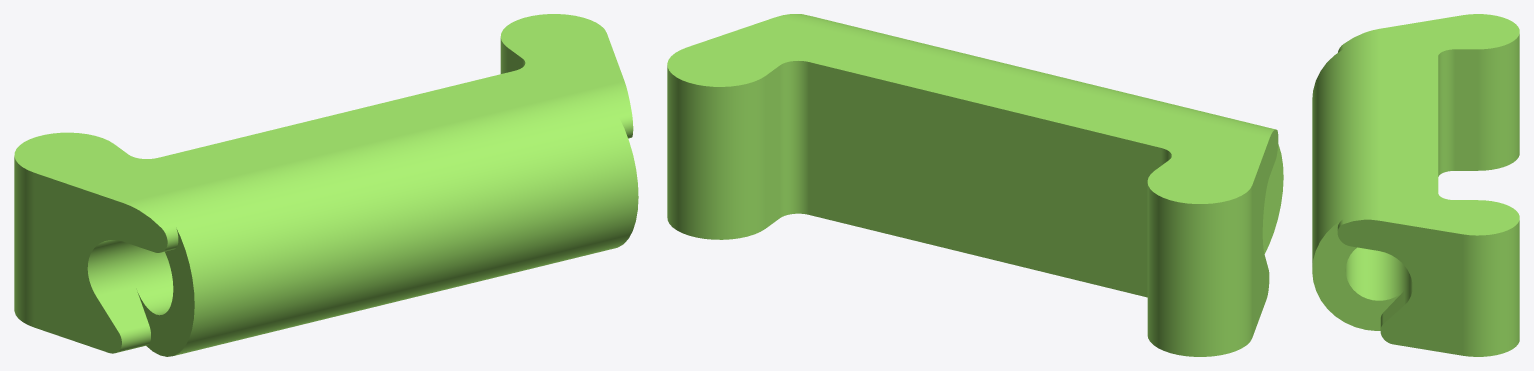
The picture shows the model from 3 angles, left to right: view 1: azimuth 30°, elevation 25°; view 2: azimuth 150°, elevation 25°; view 3: azimuth 270°, elevation 25°; orthographic projection. The views are drawn at different scales.
Visible parts, largest first — view 1: id2; view 2: id2; view 3: id2.
Part boxes in pixels (x1,y1,x2,y2): id2: (14,14,638,356); id2: (667,14,1283,356); id2: (1312,14,1519,356).
Size of the model in its own units: 0.0994 by 0.0254 by 0.0394.
